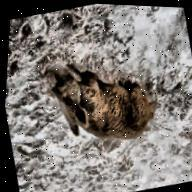boar: (38, 48, 170, 157)
